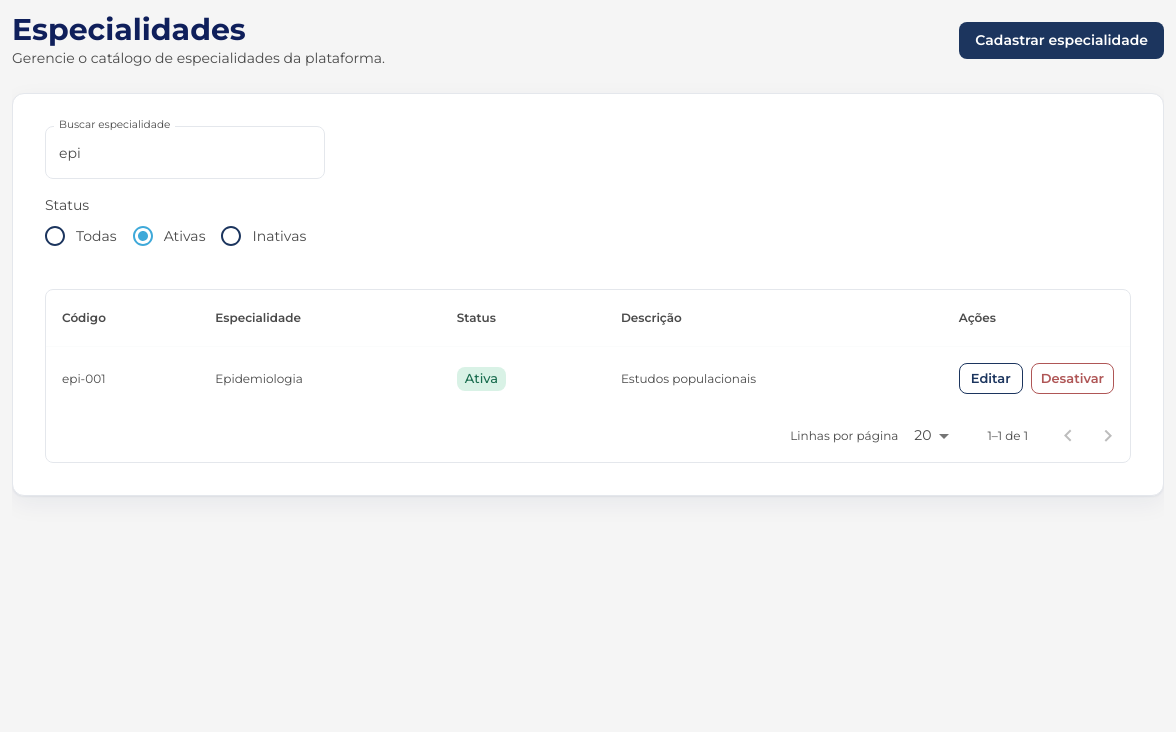
Test case: Specialties › edita os dados da linha sem nova consulta e preserva filtros e paginação ao salvar
Click the button "Editar" at (991, 379), box [959,363,1023,394]
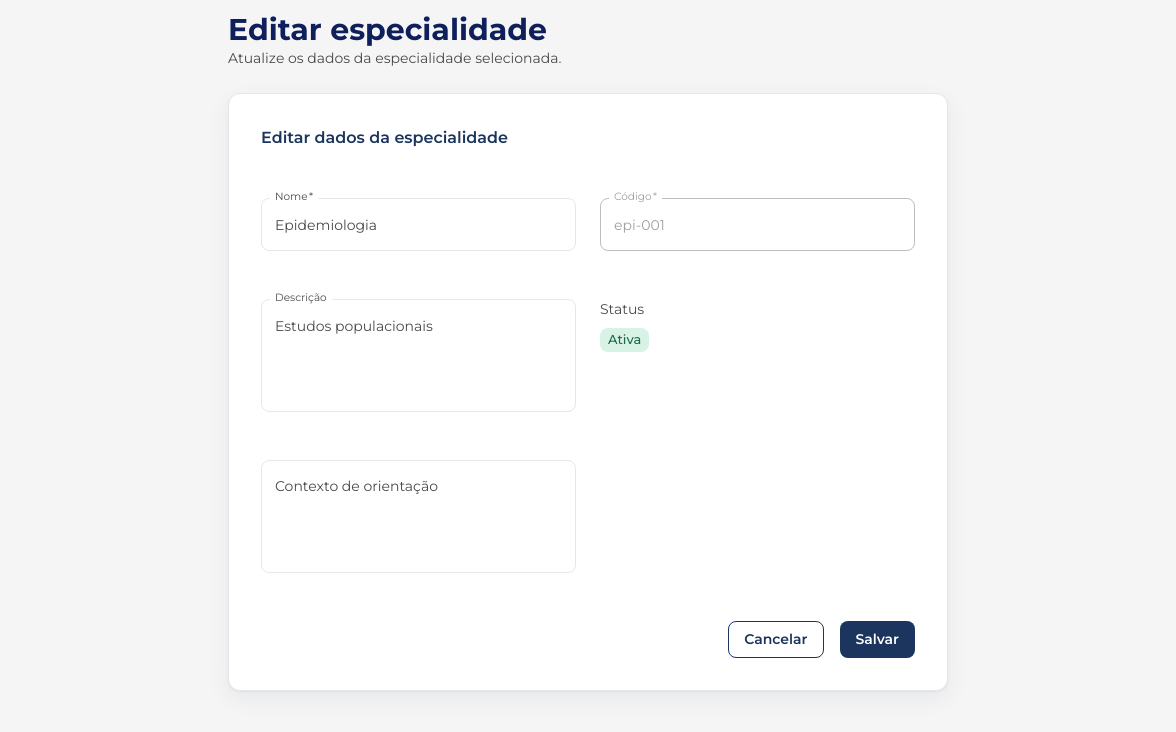
Now the heading "Editar especialidade" is shown, box [228,11,547,48]
Now the field labelled "Código *" holds "epi-001", box [600,198,915,251]
Now the field labelled "Código *" is disabled, box [600,198,915,251]
Replace the text in the field labelled "Nome *" with "Epidemiologia clínica" at (418, 225), box [261,198,576,251]
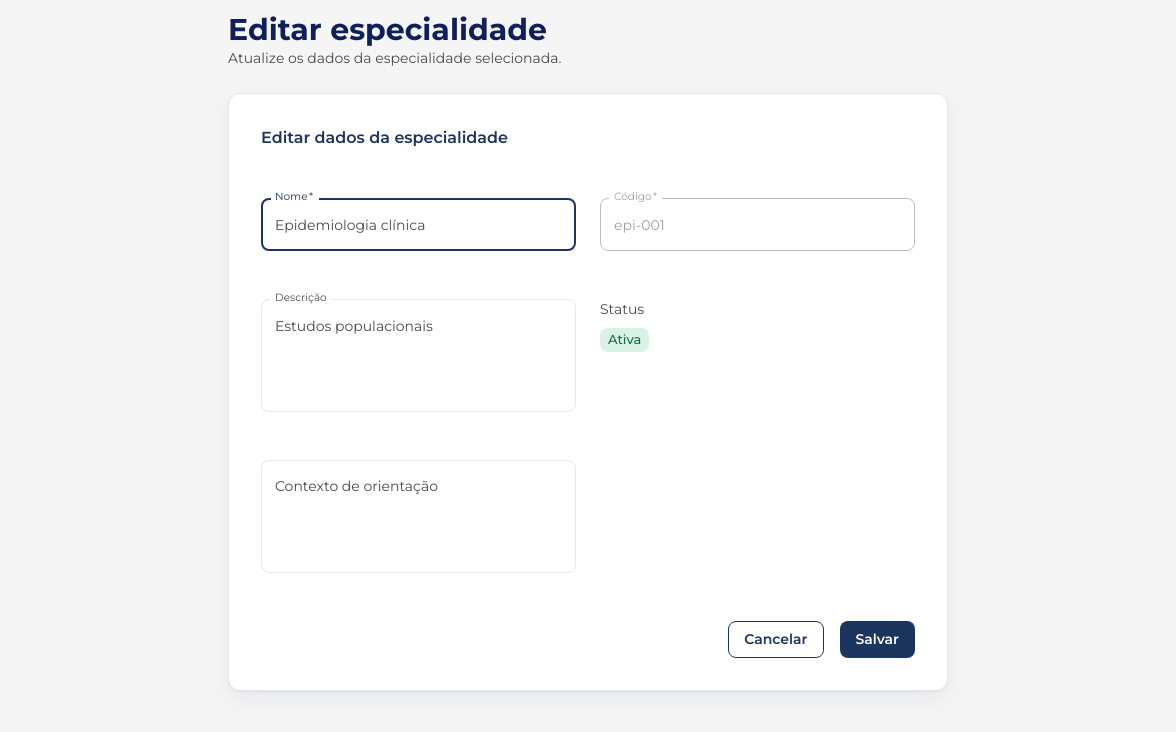
Click the button "Salvar" at (877, 639), box [840,621,915,658]
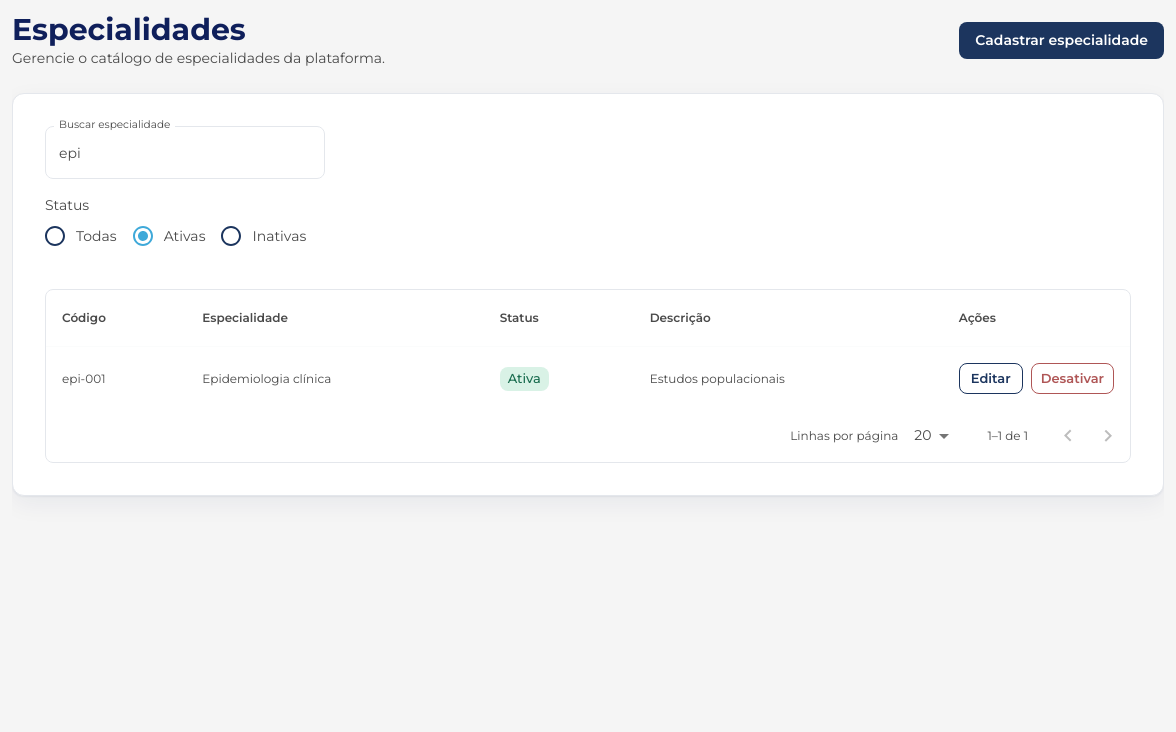
Now the text "Epidemiologia clínica" is shown, box [186,347,484,410]
